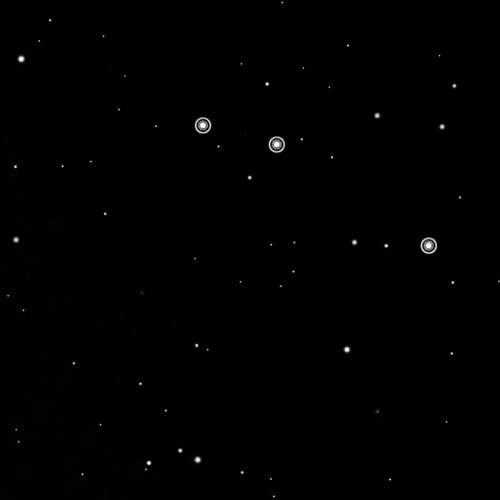vulpecula: (190, 111, 442, 260)
